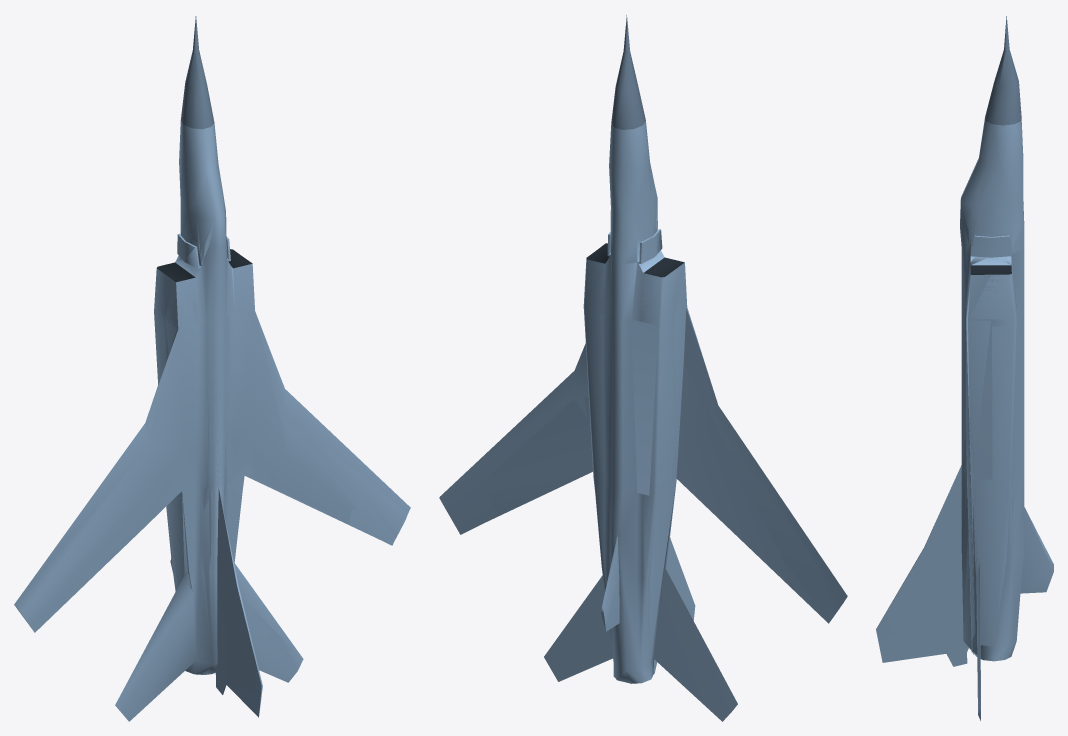
File: mig23.glb
The picture shows the model from 3 angles, left to right: view 1: azimuth 30°, elevation 25°; view 2: azimuth 150°, elevation 25°; view 3: azimuth 270°, elevation 25°; orthographic projection. The views are drawn at different scales.
Visible parts, largest first — view 1: db_mig23_newLOD_LOD child0_wing_p13917_Geometry_0.001, db_mig23_newLOD_LOD child0_eng_p13885_Geometry_0.001, db_mig23_newLOD_LOD child0_body_pl1_Geometry_0.001, db_mig23_newLOD_LOD child0_stab_p13915_Geometry_0.001, db_mig23_newLOD_LOD child0_wing2_p14330_Geometry_0.001, db_mig23_newLOD_LOD child0_rudder_p13874_Geometry_0.001, db_mig23_newLOD_LOD child0_eng2_p14106_Geometry_0.001, db_mig23_newLOD_LOD child0_body2_p13946_Geometry_0.001, db_mig23_newLOD_LOD child0_nose_p13801_Geometry_0.001, db_mig23_newLOD_LOD child0_cpit_p13809_Geometry_0.001, db_mig23_newLOD_LOD child0_stab2_p14209_Geometry_0.001, db_mig23_newLOD_LOD child0_eng3_p14483_Geometry_0.001; view 2: db_mig23_newLOD_LOD child0_body_pl1_Geometry_0.001, db_mig23_newLOD_LOD child0_wing3_p14559_Geometry_0.001, db_mig23_newLOD_LOD child0_eng_p13885_Geometry_0.001, db_mig23_newLOD_LOD child0_wing_p13917_Geometry_0.001, db_mig23_newLOD_LOD child0_stab_p13915_Geometry_0.001, db_mig23_newLOD_LOD child0_eng2_p14106_Geometry_0.001, db_mig23_newLOD_LOD child0_eng3_p14483_Geometry_0.001, db_mig23_newLOD_LOD child0_nose_p13801_Geometry_0.001, db_mig23_newLOD_LOD child0_wing2_p14330_Geometry_0.001, db_mig23_newLOD_LOD child0_fin_p13942_Geometry_0.001, db_mig23_newLOD_LOD child0_rudder_p13874_Geometry_0.001, db_mig23_newLOD_LOD child0_intake_p13926_Geometry_0.001; view 3: db_mig23_newLOD_LOD child0_body_pl1_Geometry_0.001, db_mig23_newLOD_LOD child0_eng2_p14106_Geometry_0.001, db_mig23_newLOD_LOD child0_rudder_p13874_Geometry_0.001, db_mig23_newLOD_LOD child0_eng_p13885_Geometry_0.001, db_mig23_newLOD_LOD child0_nose_p13801_Geometry_0.001, db_mig23_newLOD_LOD child0_fin_p13942_Geometry_0.001, db_mig23_newLOD_LOD child0_cpit_p13809_Geometry_0.001, db_mig23_newLOD_LOD child0_wing2_p14330_Geometry_0.001, db_mig23_newLOD_LOD child0_wing_p13917_Geometry_0.001, db_mig23_newLOD_LOD child0_baffle_p13647_Geometry_0.001, db_mig23_newLOD_LOD child0_nozzle_p13705_Geometry_0.001, db_mig23_newLOD_LOD child0_intake_p13926_Geometry_0.001 (+3 smaller).
Boxes of the visible parts, x1=… form: db_mig23_newLOD_LOD child0_wing_p13917_Geometry_0.001: x1=14, y1=311, x2=407, y2=632; db_mig23_newLOD_LOD child0_eng_p13885_Geometry_0.001: x1=154, y1=257, x2=254, y2=657; db_mig23_newLOD_LOD child0_body_pl1_Geometry_0.001: x1=179, y1=120, x2=227, y2=664; db_mig23_newLOD_LOD child0_stab_p13915_Geometry_0.001: x1=115, y1=572, x2=303, y2=721; db_mig23_newLOD_LOD child0_wing2_p14330_Geometry_0.001: x1=244, y1=312, x2=410, y2=545; db_mig23_newLOD_LOD child0_rudder_p13874_Geometry_0.001: x1=215, y1=488, x2=262, y2=717; db_mig23_newLOD_LOD child0_eng2_p14106_Geometry_0.001: x1=154, y1=255, x2=254, y2=588; db_mig23_newLOD_LOD child0_body2_p13946_Geometry_0.001: x1=193, y1=178, x2=226, y2=660; db_mig23_newLOD_LOD child0_nose_p13801_Geometry_0.001: x1=181, y1=16, x2=214, y2=129; db_mig23_newLOD_LOD child0_cpit_p13809_Geometry_0.001: x1=196, y1=171, x2=226, y2=246; db_mig23_newLOD_LOD child0_stab2_p14209_Geometry_0.001: x1=234, y1=563, x2=302, y2=657; db_mig23_newLOD_LOD child0_eng3_p14483_Geometry_0.001: x1=176, y1=270, x2=252, y2=328; db_mig23_newLOD_LOD child0_body_pl1_Geometry_0.001: x1=609, y1=121, x2=657, y2=670; db_mig23_newLOD_LOD child0_wing3_p14559_Geometry_0.001: x1=440, y1=364, x2=828, y2=623; db_mig23_newLOD_LOD child0_eng_p13885_Geometry_0.001: x1=583, y1=253, x2=687, y2=668; db_mig23_newLOD_LOD child0_wing_p13917_Geometry_0.001: x1=439, y1=307, x2=843, y2=622; db_mig23_newLOD_LOD child0_stab_p13915_Geometry_0.001: x1=544, y1=567, x2=737, y2=721; db_mig23_newLOD_LOD child0_eng2_p14106_Geometry_0.001: x1=583, y1=250, x2=686, y2=663; db_mig23_newLOD_LOD child0_eng3_p14483_Geometry_0.001: x1=601, y1=273, x2=660, y2=495; db_mig23_newLOD_LOD child0_nose_p13801_Geometry_0.001: x1=611, y1=15, x2=645, y2=129; db_mig23_newLOD_LOD child0_wing2_p14330_Geometry_0.001: x1=487, y1=408, x2=847, y2=623; db_mig23_newLOD_LOD child0_fin_p13942_Geometry_0.001: x1=601, y1=535, x2=619, y2=631; db_mig23_newLOD_LOD child0_rudder_p13874_Geometry_0.001: x1=653, y1=537, x2=695, y2=673; db_mig23_newLOD_LOD child0_intake_p13926_Geometry_0.001: x1=587, y1=243, x2=684, y2=277; db_mig23_newLOD_LOD child0_body_pl1_Geometry_0.001: x1=960, y1=118, x2=1024, y2=644; db_mig23_newLOD_LOD child0_eng2_p14106_Geometry_0.001: x1=966, y1=253, x2=1016, y2=646; db_mig23_newLOD_LOD child0_rudder_p13874_Geometry_0.001: x1=876, y1=465, x2=968, y2=666; db_mig23_newLOD_LOD child0_eng_p13885_Geometry_0.001: x1=966, y1=256, x2=1017, y2=646; db_mig23_newLOD_LOD child0_nose_p13801_Geometry_0.001: x1=985, y1=16, x2=1021, y2=125; db_mig23_newLOD_LOD child0_fin_p13942_Geometry_0.001: x1=1020, y1=507, x2=1053, y2=593; db_mig23_newLOD_LOD child0_cpit_p13809_Geometry_0.001: x1=960, y1=158, x2=978, y2=231; db_mig23_newLOD_LOD child0_wing2_p14330_Geometry_0.001: x1=966, y1=341, x2=973, y2=652; db_mig23_newLOD_LOD child0_wing_p13917_Geometry_0.001: x1=966, y1=320, x2=975, y2=654; db_mig23_newLOD_LOD child0_baffle_p13647_Geometry_0.001: x1=970, y1=235, x2=1011, y2=257; db_mig23_newLOD_LOD child0_nozzle_p13705_Geometry_0.001: x1=964, y1=641, x2=1016, y2=661; db_mig23_newLOD_LOD child0_intake_p13926_Geometry_0.001: x1=970, y1=265, x2=1011, y2=274.
Bounding box in the file's own units: 10.28 × 16.8 × 4.05.
